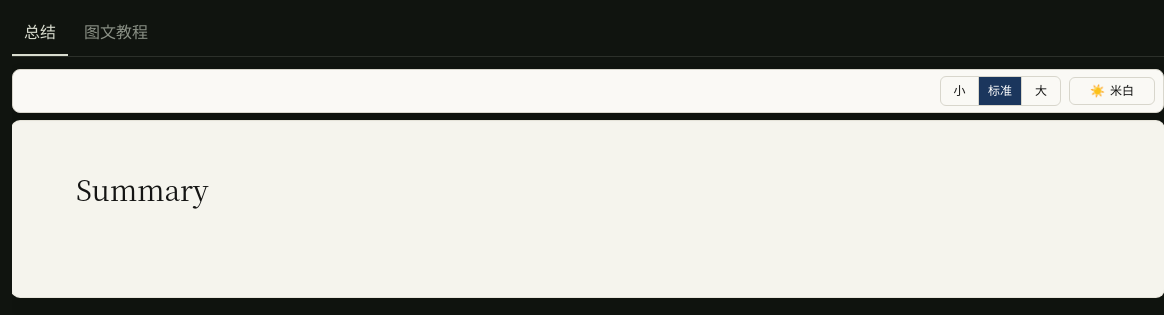
DocumentReader › shows summary and ready tutorial tabs without requesting another API
The image size is (1164, 315).
Expected: the element showing "总结 图文教程" is shown, [12,12,1163,57]
What coordinates should you click on to do the following:
click the tab "图文教程"
I would click on:
 (116, 34)
Its box is [72,12,160,56].
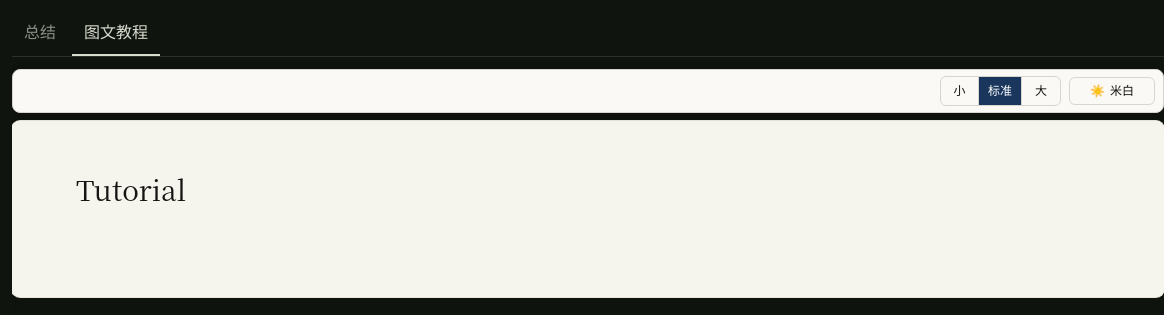
Result: the text "Tutorial" is shown at [76,169,186,209]
